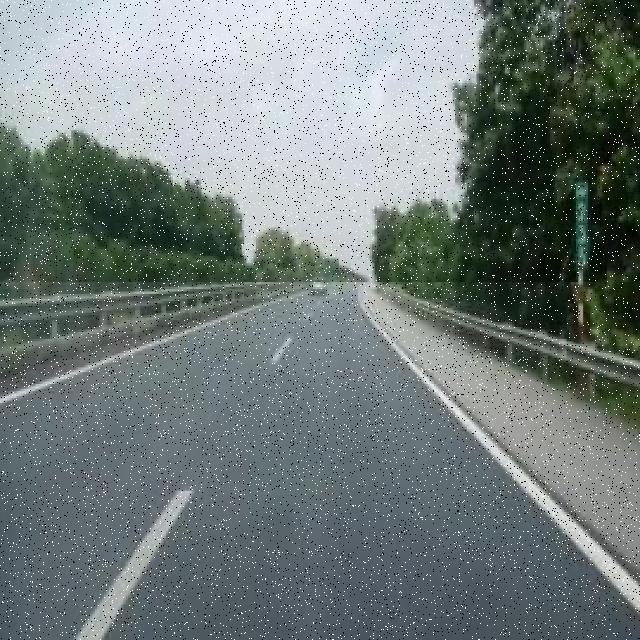clear-road: (0, 284, 640, 640)
